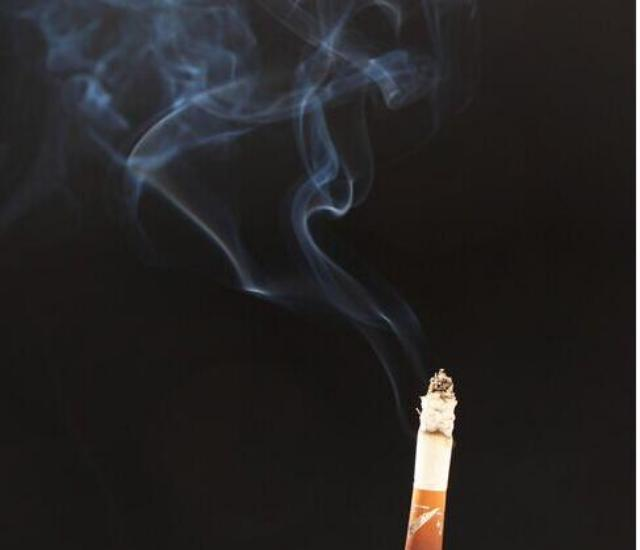Smoking: (404, 367, 455, 550)
